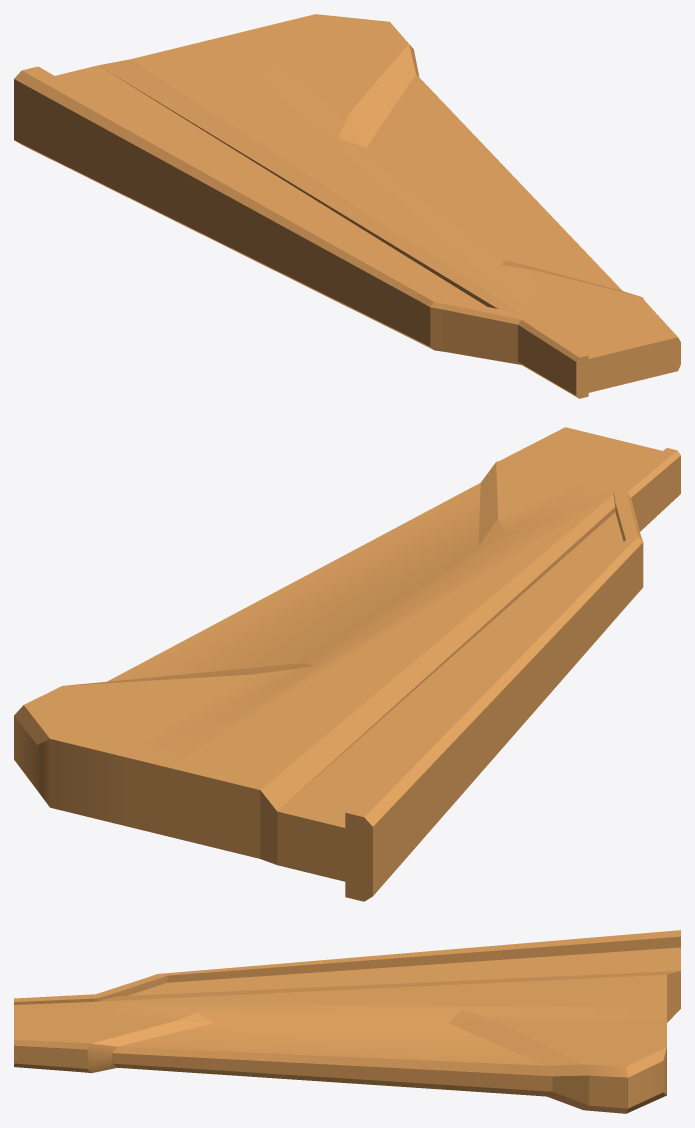
File: Platform_003.fbx
The picture shows the model from 3 angles, top to bottom: view 1: azimuth 30°, elevation 25°; view 2: azimuth 150°, elevation 25°; view 3: azimuth 270°, elevation 25°; orthographic projection. The views are drawn at different scales.
Parts seen in each view (by area): view 1: pPlane30; view 2: pPlane30; view 3: pPlane30.
Boxes of the visible parts, x1,y1,x2,y2 form: pPlane30: (14, 14, 680, 398); pPlane30: (14, 427, 680, 901); pPlane30: (14, 930, 680, 1113).
Size of the model in its own units: 114 by 23.16 by 235.
